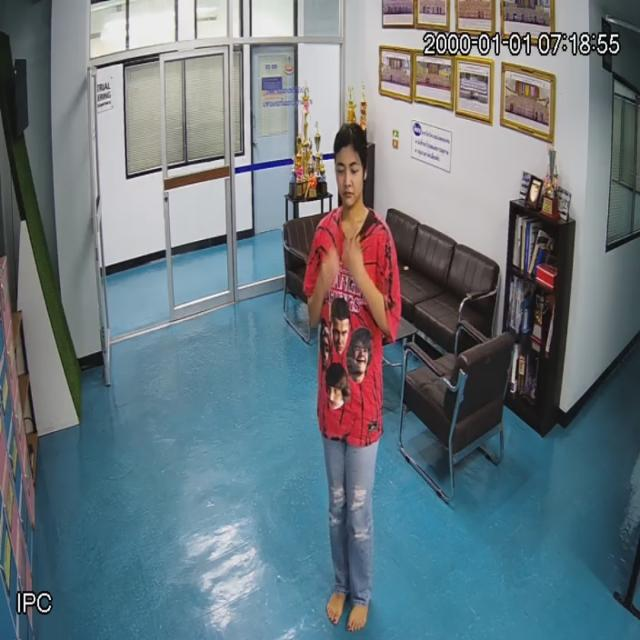normal: (295, 106, 405, 640)
